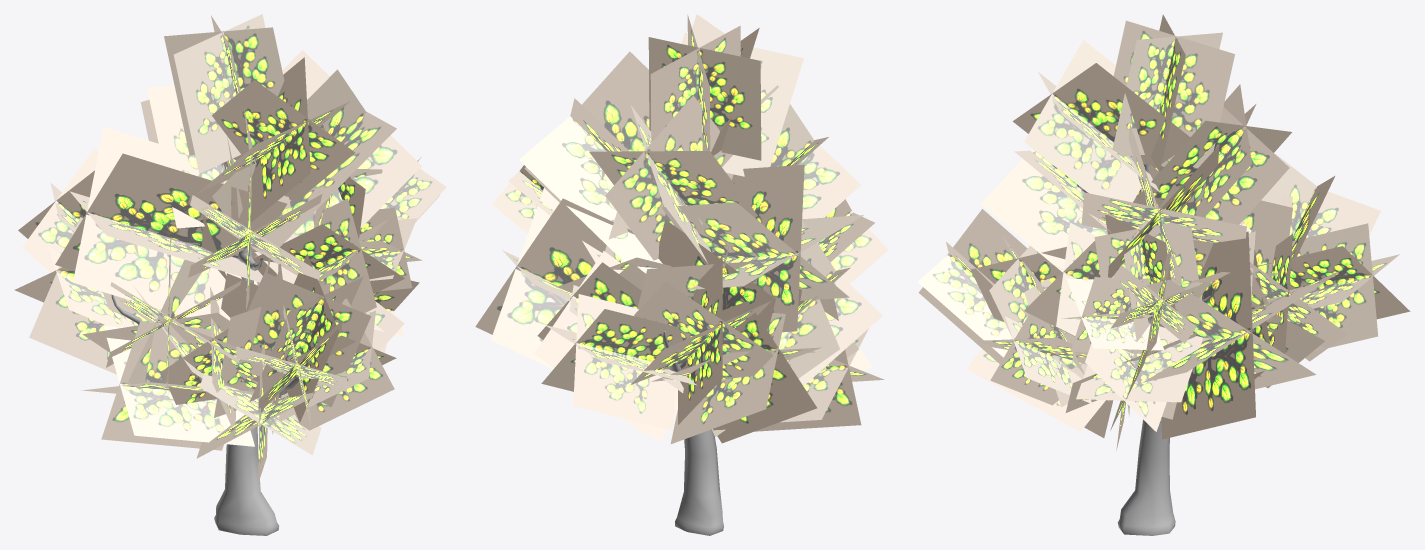
File: MainTree.FBX
3 views of the same model, side by side, from view 1: azimuth 30°, elevation 25°; view 2: azimuth 150°, elevation 25°; view 3: azimuth 270°, elevation 25° (orthographic).
Parts seen in each view (by area): view 1: TreeA; view 2: TreeA; view 3: TreeA.
Boxes of the visible parts, x1,y1,x2,y2 form: TreeA: (14, 14, 446, 535); TreeA: (475, 14, 888, 535); TreeA: (918, 14, 1410, 535).
Size of the model in its own units: 408 by 534 by 482.
